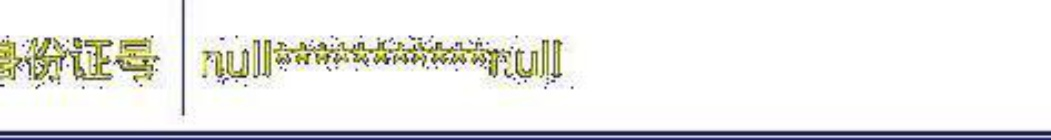EditText: (1, 1, 1050, 139)
